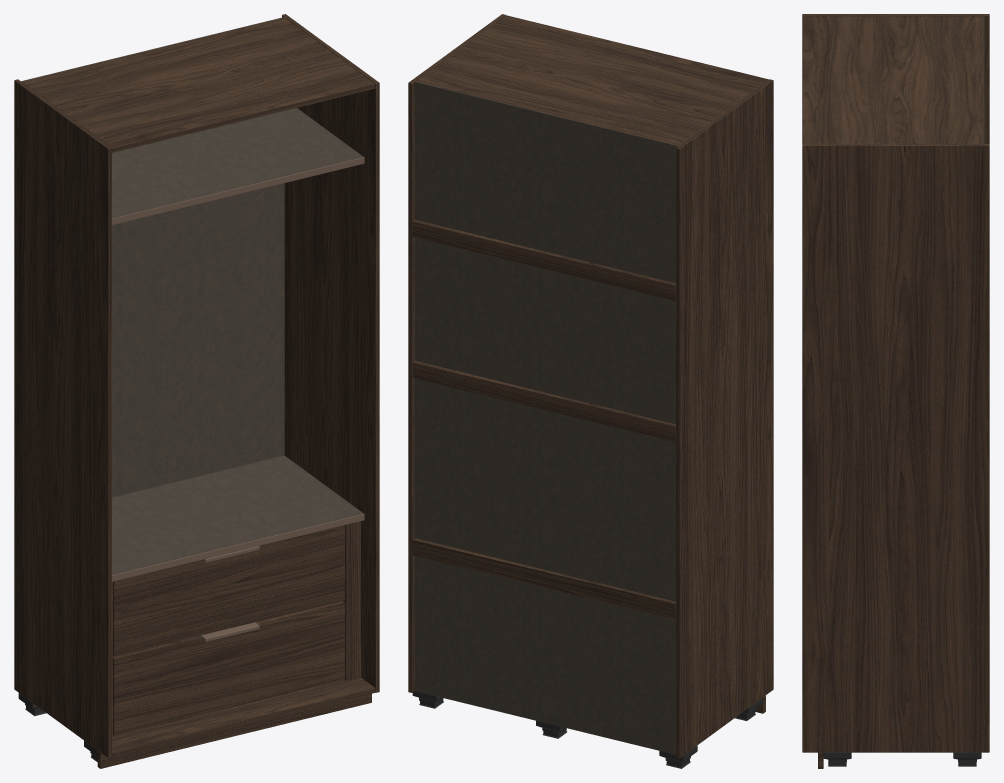
3 views of the same model, side by side, from view 1: azimuth 30°, elevation 25°; view 2: azimuth 150°, elevation 25°; view 3: azimuth 270°, elevation 25° (orthographic).
Visible parts, largest first — view 1: HK1001028, BONG_01; view 2: HK1001028; view 3: HK1001028.
Boxes of the visible parts, <box> form: HK1001028: <box>14,14,379,768</box>; BONG_01: <box>201,546,259,642</box>; HK1001028: <box>408,14,773,768</box>; HK1001028: <box>802,14,989,768</box>.
Size of the model in its own units: 1 by 2.2 by 0.6.
7 materials, 6 textured.
